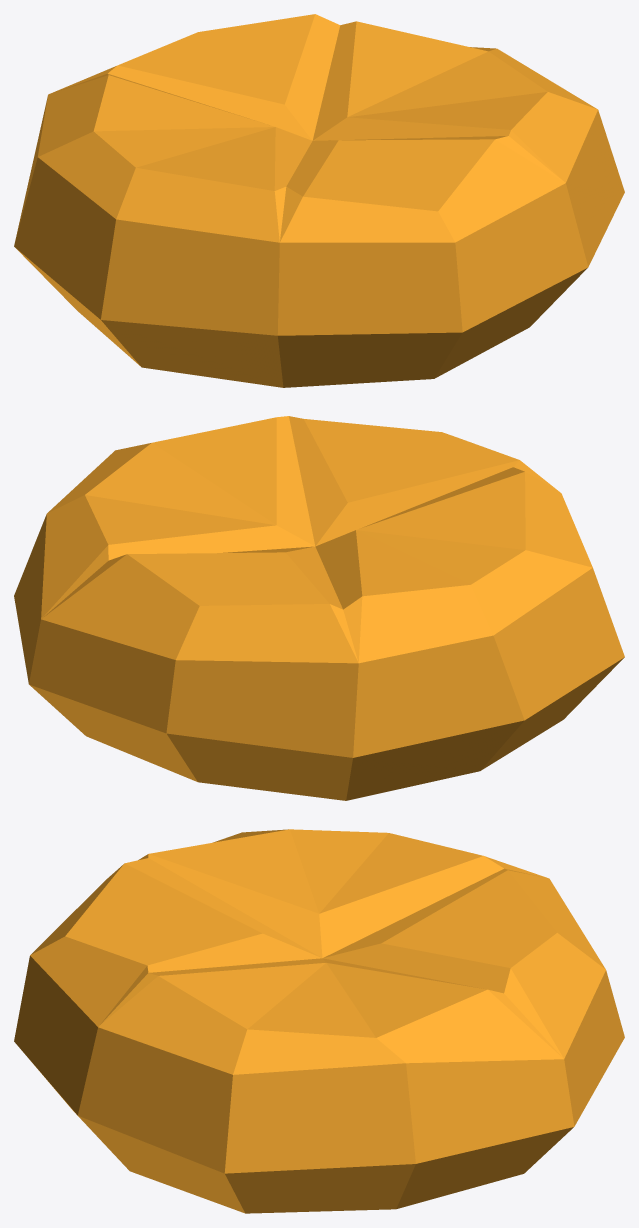
The model's file is SM_Bread_Cross_Top.fbx.
The picture shows the model from 3 angles, top to bottom: view 1: azimuth 30°, elevation 25°; view 2: azimuth 150°, elevation 25°; view 3: azimuth 270°, elevation 25°; orthographic projection. The views are drawn at different scales.
Visible parts, largest first — view 1: bread-cross-top; view 2: bread-cross-top; view 3: bread-cross-top.
Boxes of the visible parts, x1,y1,x2,y2 form: bread-cross-top: (14, 14, 624, 387); bread-cross-top: (14, 416, 624, 800); bread-cross-top: (14, 829, 624, 1213).
Size of the model in its own units: 0.3119 by 0.1096 by 0.3074.
